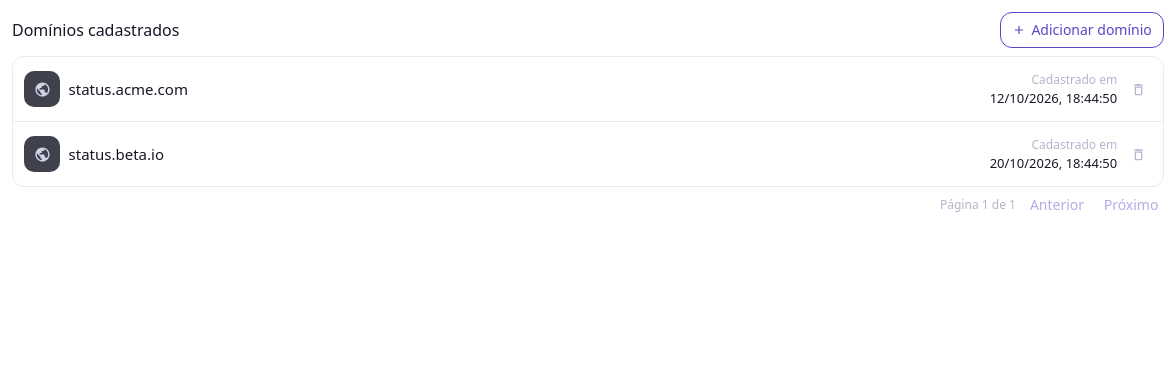
Test: DomainsPage › new registration appears in the table
Click the button "Adicionar domínio" at (1082, 30), box [1000,12,1164,48]
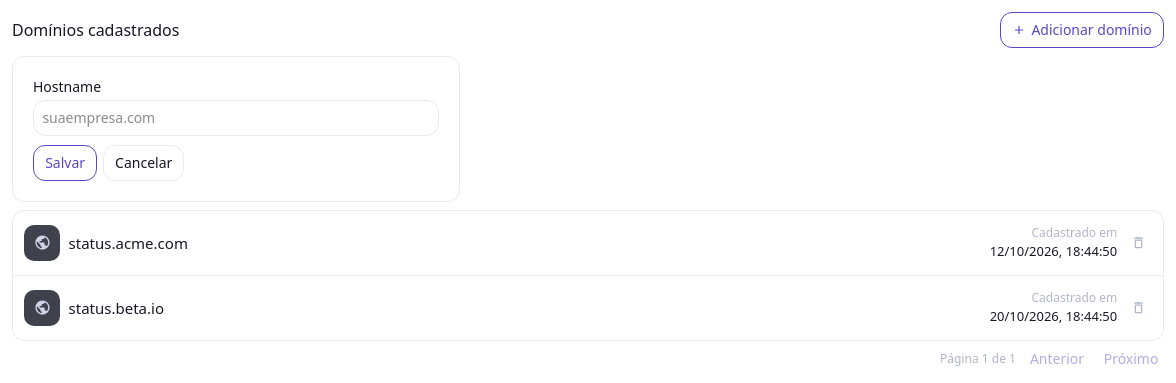
Type "status.novo-dominio.com" into the field labelled "Hostname" at (236, 118), box [33,100,439,136]
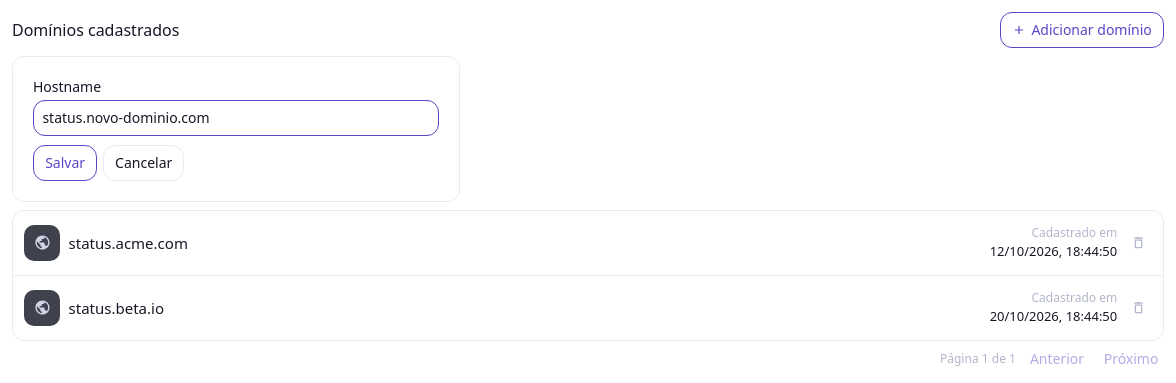
Click the button "Salvar" at (65, 163), box [33,145,97,181]
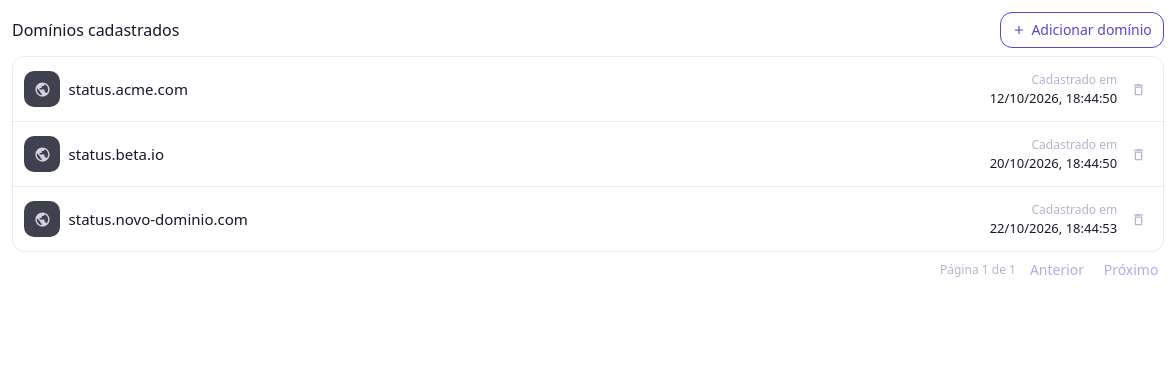
Check: the label labelled "Hostname" is gone
Check: the text "status.novo-dominio.com" is shown, box [69,209,248,229]
